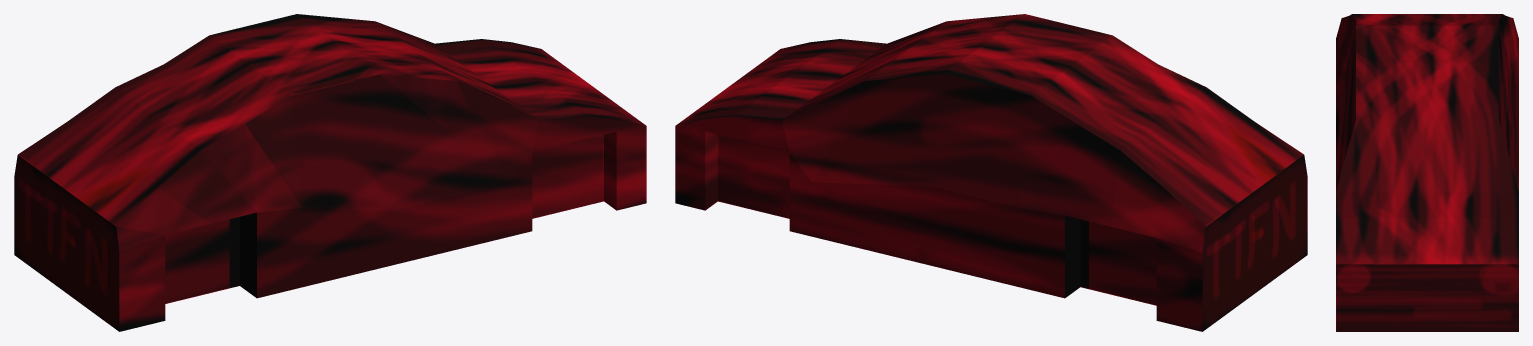
The model's file is bodyHULL.obj.
The picture shows the model from 3 angles, left to right: view 1: azimuth 30°, elevation 25°; view 2: azimuth 150°, elevation 25°; view 3: azimuth 270°, elevation 25°; orthographic projection. The views are drawn at different scales.
Parts seen in each view (by area): view 1: Cube; view 2: Cube; view 3: Cube.
Boxes of the visible parts, x1,y1,x2,y2 form: Cube: (14, 14, 646, 331); Cube: (675, 14, 1307, 331); Cube: (1336, 14, 1518, 331).
Size of the model in its own units: 5.57 by 1.85 by 1.92.
